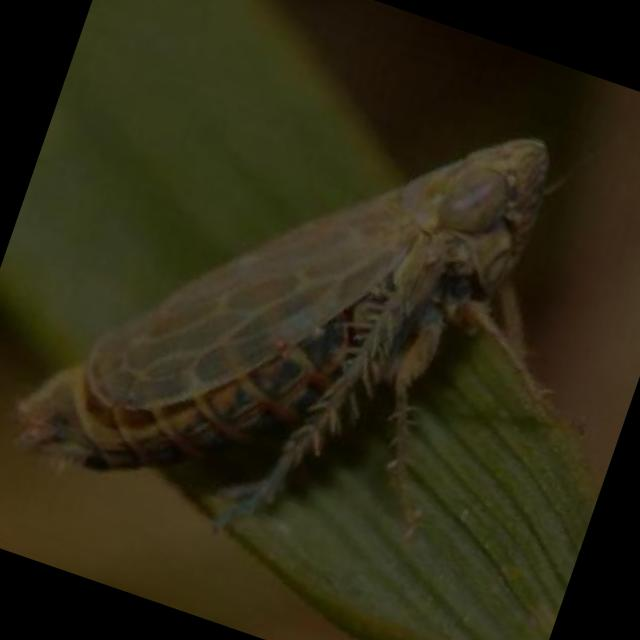green-leafhopper: (14, 8, 586, 600)
